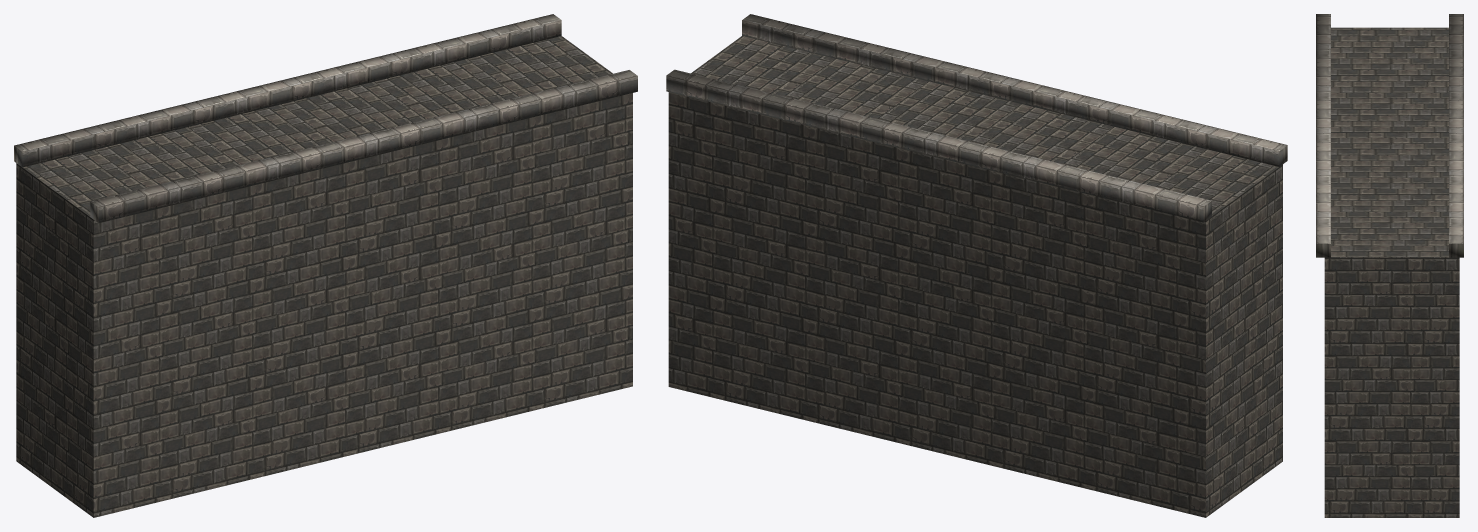
File: OutdoorM_rampart.FBX
The picture shows the model from 3 angles, left to right: view 1: azimuth 30°, elevation 25°; view 2: azimuth 150°, elevation 25°; view 3: azimuth 270°, elevation 25°; orthographic projection. The views are drawn at different scales.
Parts seen in each view (by area): view 1: OutdoorM_rampart; view 2: OutdoorM_rampart; view 3: OutdoorM_rampart.
Boxes of the visible parts, bbox=[...] form: OutdoorM_rampart: bbox=[14, 14, 637, 517]; OutdoorM_rampart: bbox=[666, 14, 1287, 517]; OutdoorM_rampart: bbox=[1316, 14, 1463, 517].
Bounding box in the file's own units: 204 × 113 × 55.33.
